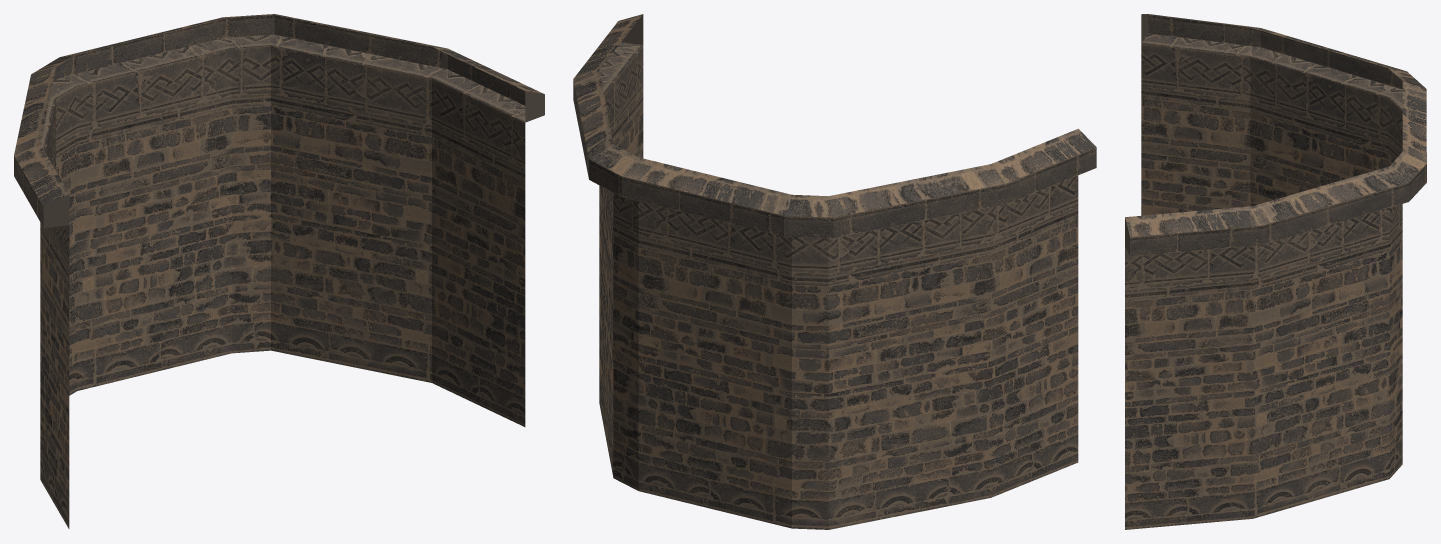
The model's file is wall window 2_CD.fbx.
The picture shows the model from 3 angles, left to right: view 1: azimuth 30°, elevation 25°; view 2: azimuth 150°, elevation 25°; view 3: azimuth 270°, elevation 25°; orthographic projection. The views are drawn at different scales.
Parts seen in each view (by area): view 1: Cylinder002.003; view 2: Cylinder002.003; view 3: Cylinder002.003.
Boxes of the visible parts, box(x1,y1,x2,y2) form: Cylinder002.003: box(14, 14, 544, 528); Cylinder002.003: box(573, 14, 1096, 529); Cylinder002.003: box(1125, 14, 1426, 529).
Bounding box in the file's own units: 743 × 486 × 425.
